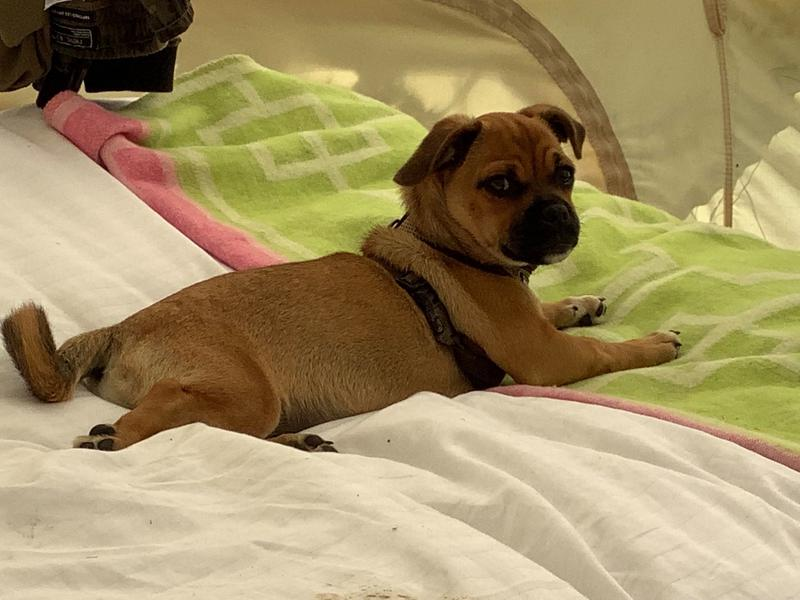dog_down: (5, 101, 684, 457)
